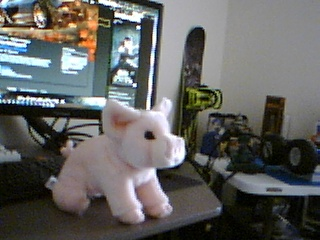piggy: (51, 97, 188, 224)
